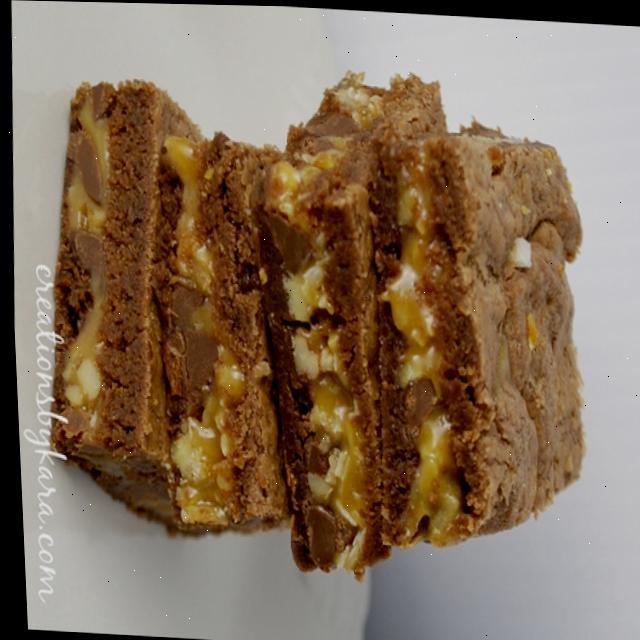蛋糕甜品: (18, 33, 627, 584)
